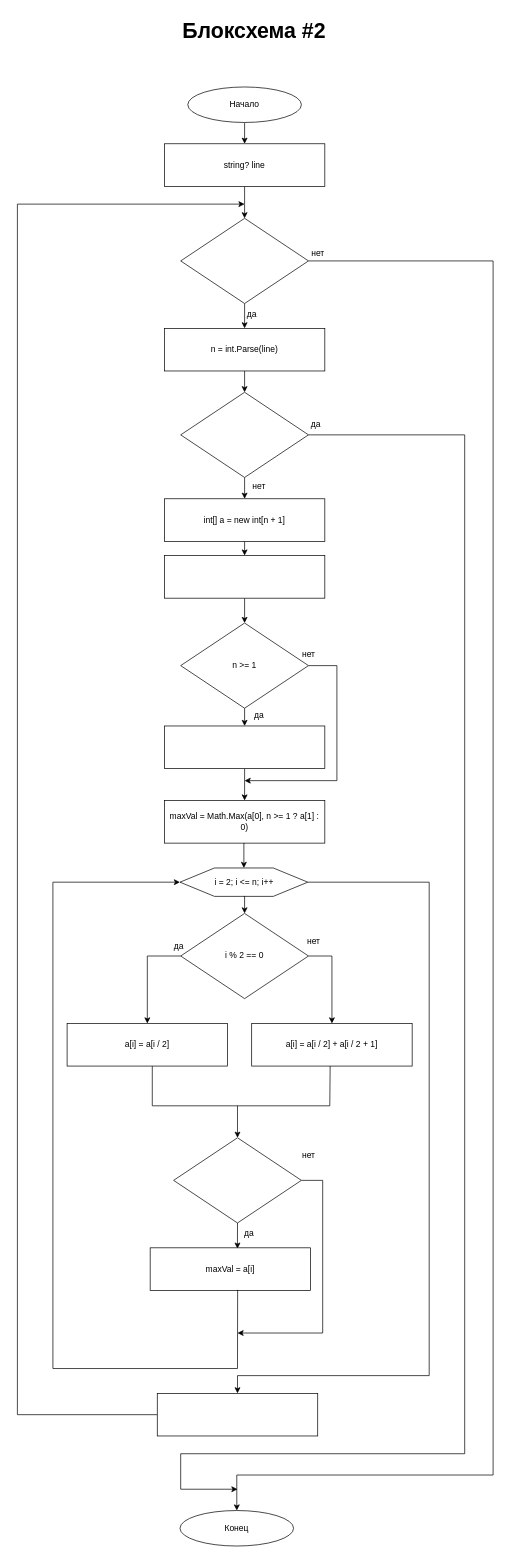
Some shapes in this 511 by 1558 pixel diagram are drawn without their labels. The centre of each missing label's shape, as x and y in pixels:
"(line = Console.ReadLine()) != null" belongs at pixel 244 261.
"a[0] = 0" belongs at pixel 244 576.
"a[1] = 1" belongs at pixel 244 747.
"a[i] > maxVal" belongs at pixel 237 1180.
"Console.WriteLine(maxVal)" belongs at pixel 237 1414.
"n == 0" belongs at pixel 244 434.
